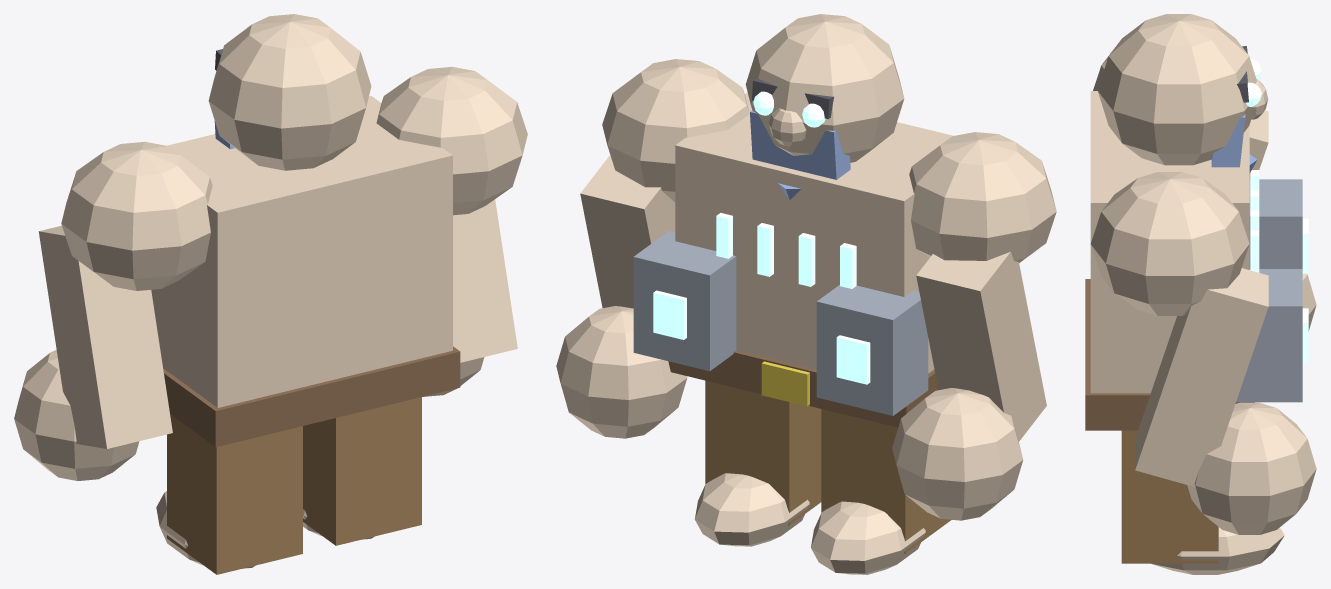
File: rune_giant.glb
3 views of the same model, side by side, from view 1: azimuth 30°, elevation 25°; view 2: azimuth 150°, elevation 25°; view 3: azimuth 270°, elevation 25° (orthographic). The views are drawn at different scales.
Visible parts, largest first — view 1: rune_giant; view 2: rune_giant; view 3: rune_giant.
Boxes of the visible parts, <box> form: rune_giant: <box>14,14,527,574</box>; rune_giant: <box>556,14,1056,574</box>; rune_giant: <box>1085,14,1316,574</box>.
Bounding box in the file's own units: 3.8 × 4.22 × 1.7.
